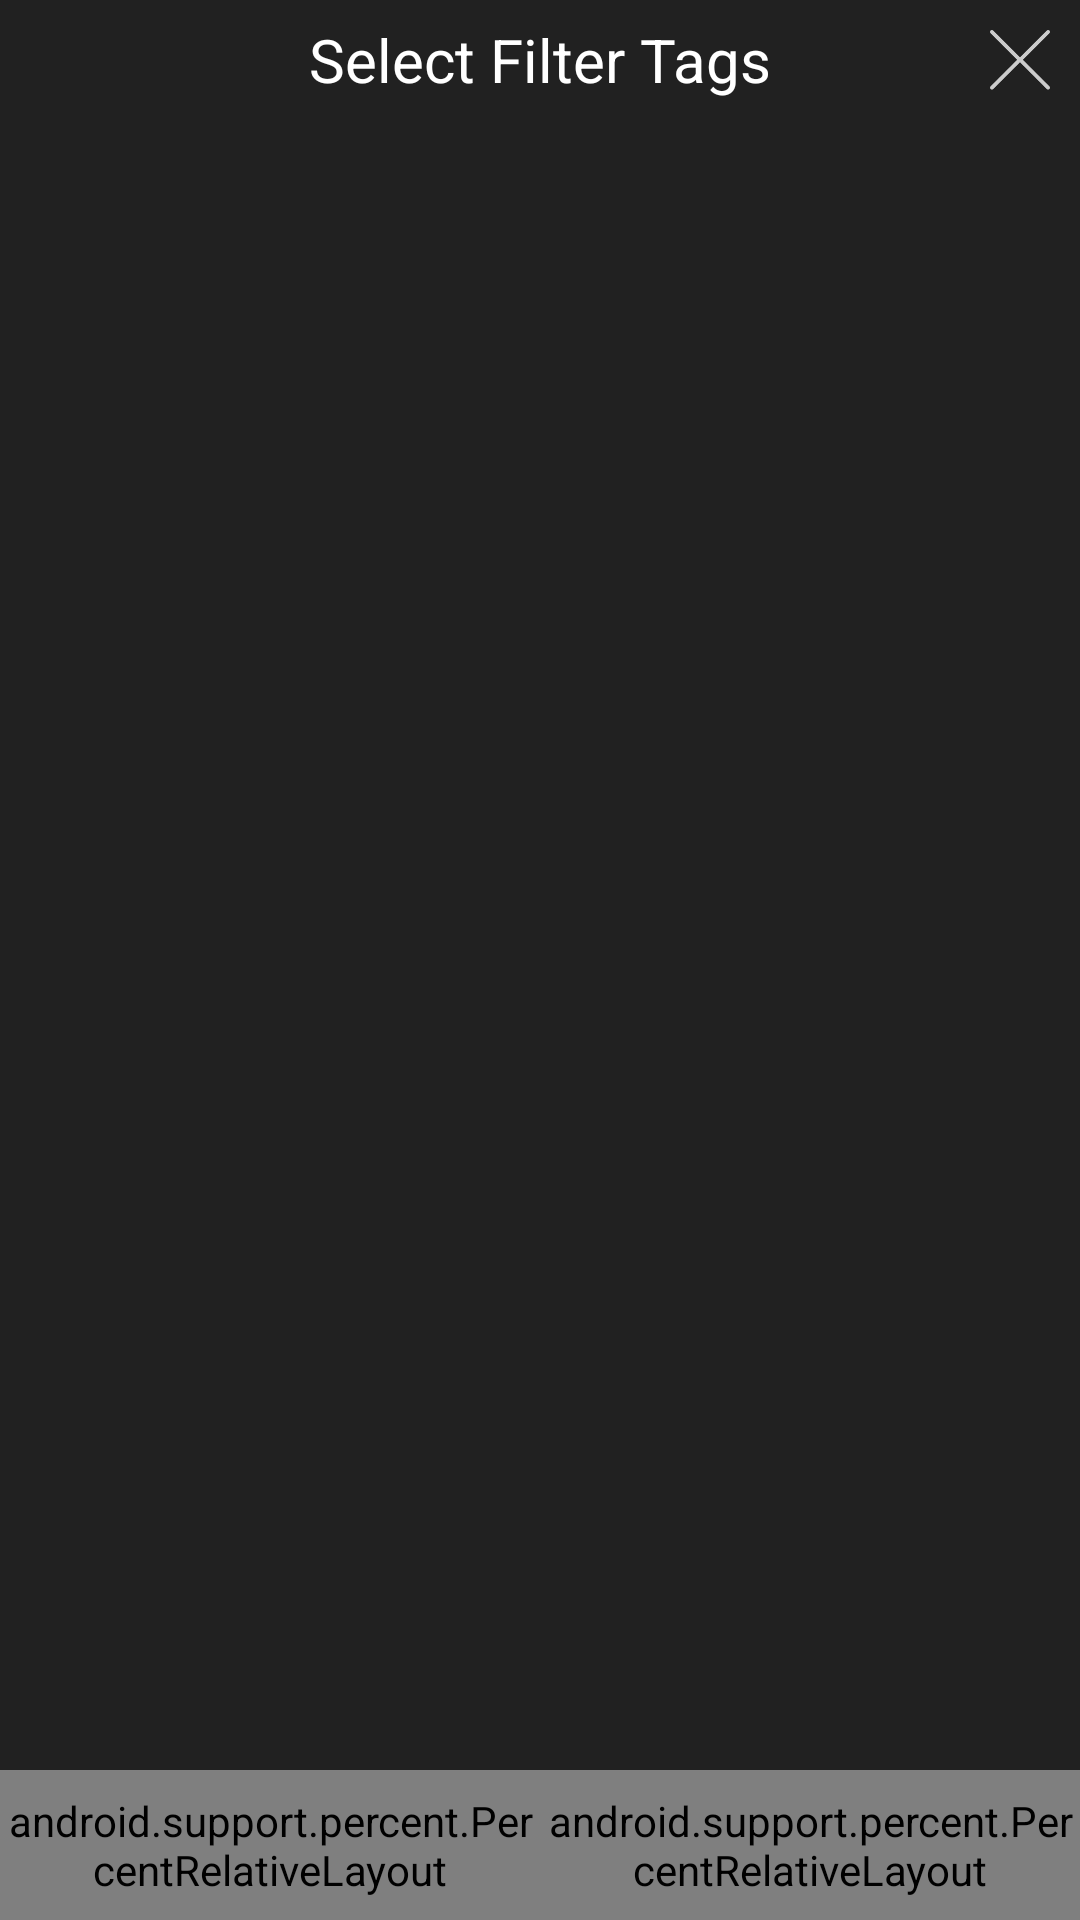

Icons on this 1080x1920 Android screen, each with its box as (x1, y1, x2, y2):
close: (990, 30, 1050, 90)
